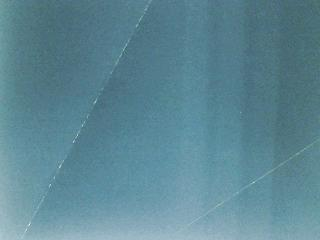crack: (21, 0, 153, 240), (172, 136, 319, 240)
